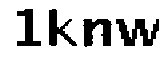1: (14, 5, 46, 52)
k: (48, 6, 81, 50)
n: (84, 13, 113, 51)
w: (116, 14, 159, 48)
